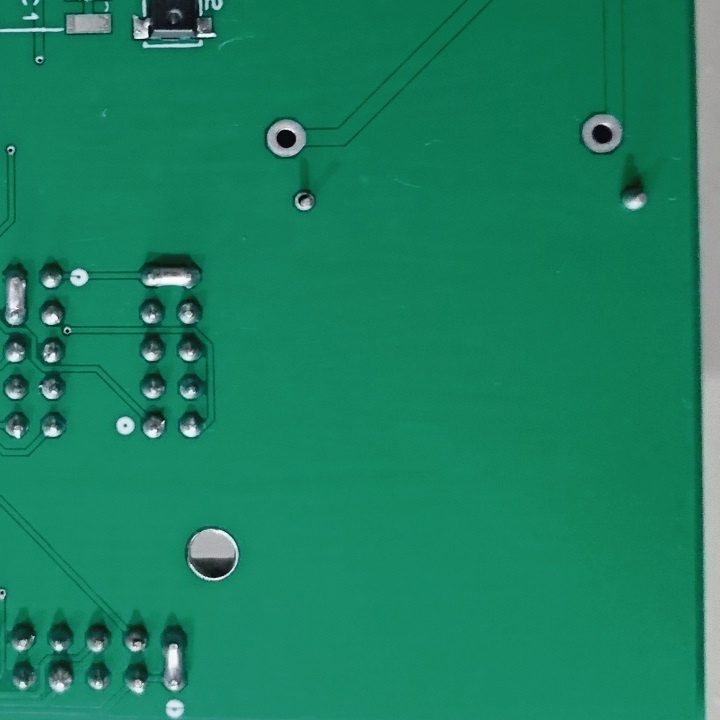F: (577, 109, 627, 160), (259, 115, 310, 161), (290, 186, 320, 216)
P: (158, 623, 193, 699), (1, 263, 34, 329), (138, 260, 204, 291)
